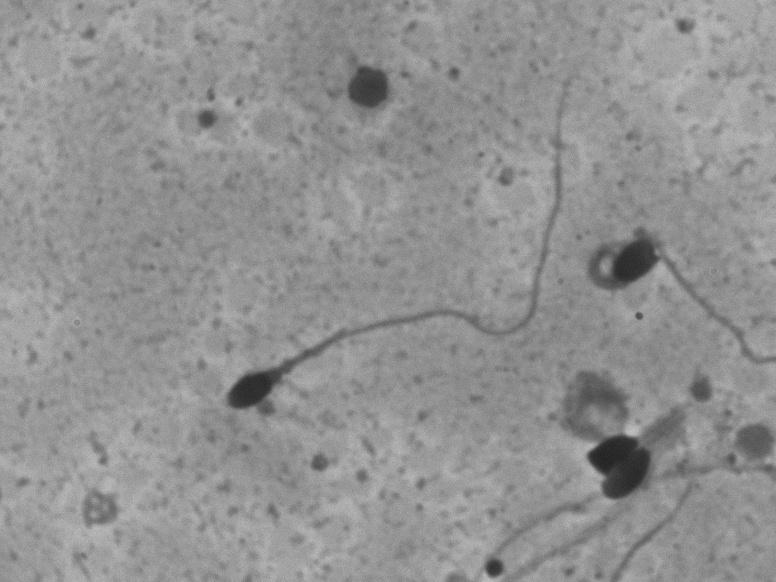Abnormal: (574, 190, 730, 346)
Normal: (165, 71, 571, 430)
